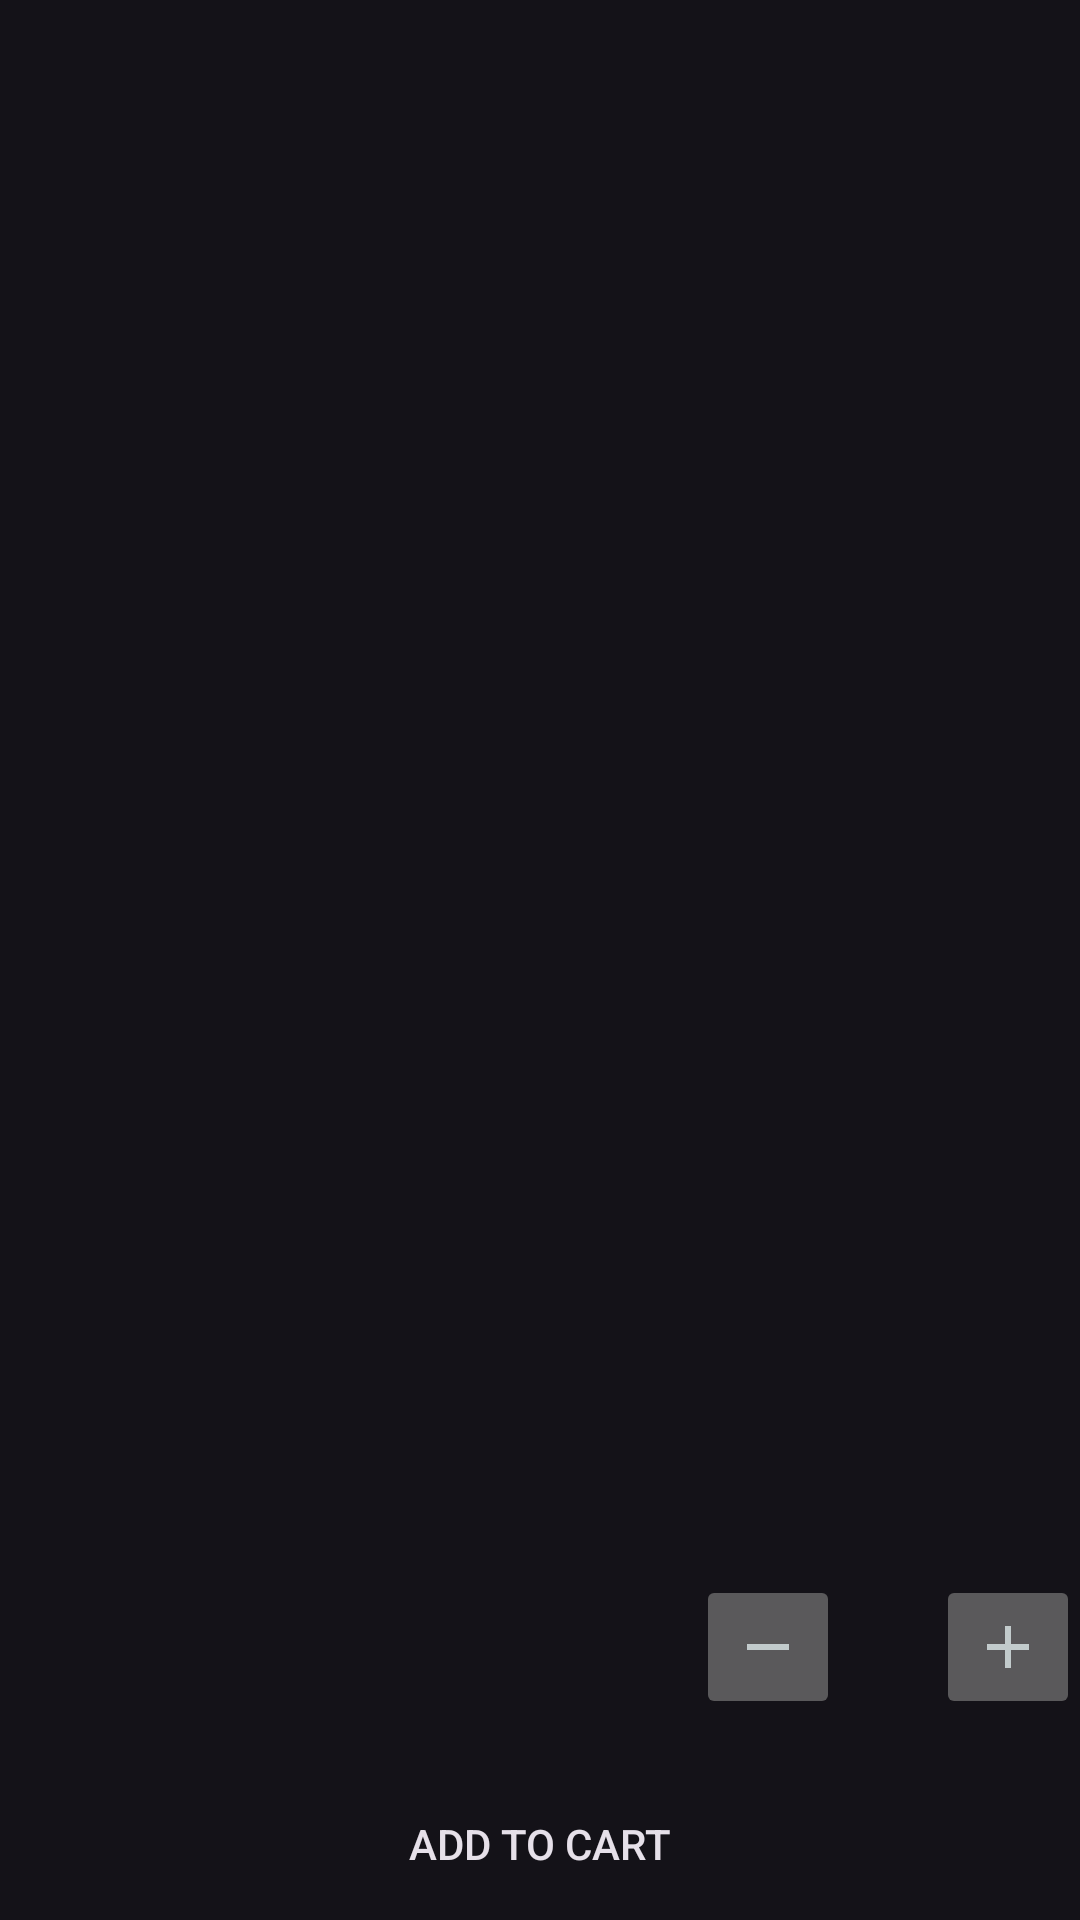

Icon click points for this 1080 x 1920 phone screenshot, format (x=x, y=y):
Remove: (x=768, y=1647)
